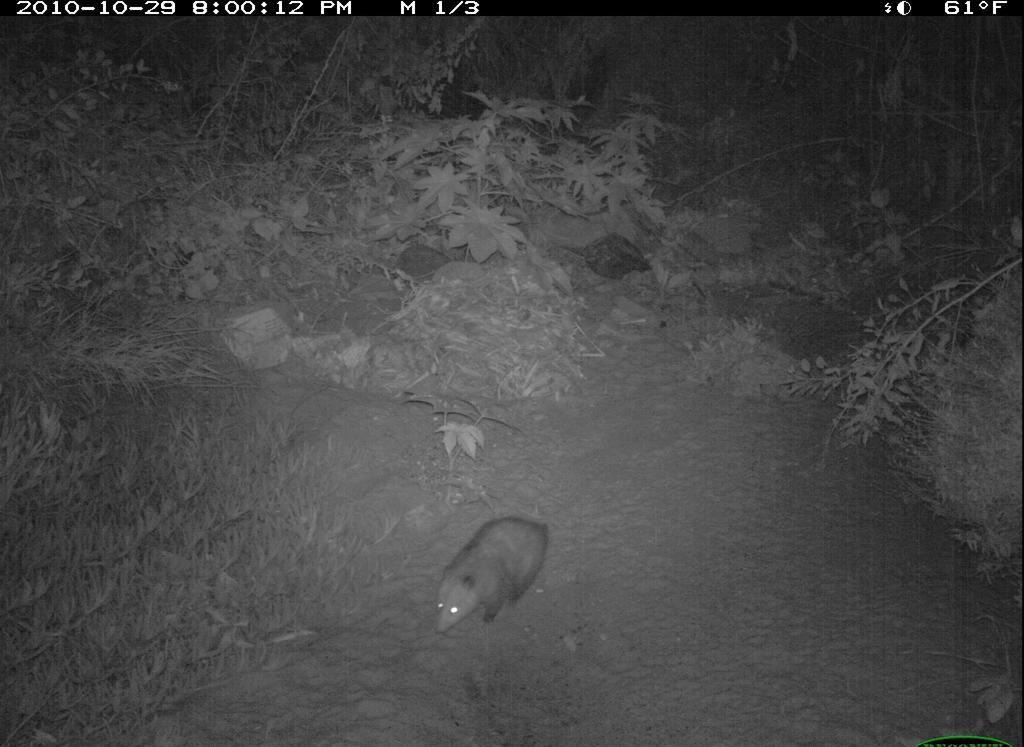opossum: (405, 487, 579, 655)
